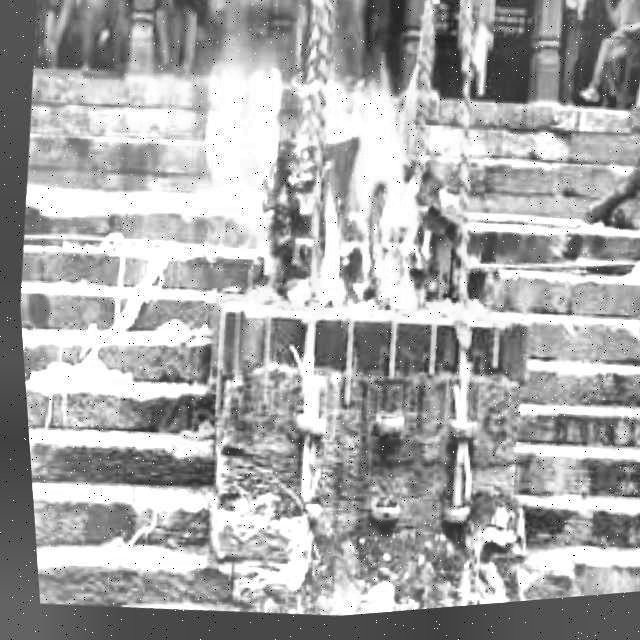Fire: (291, 72, 440, 325)
